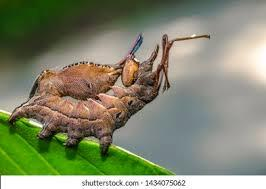Lobster Moth: (10, 36, 179, 150)
